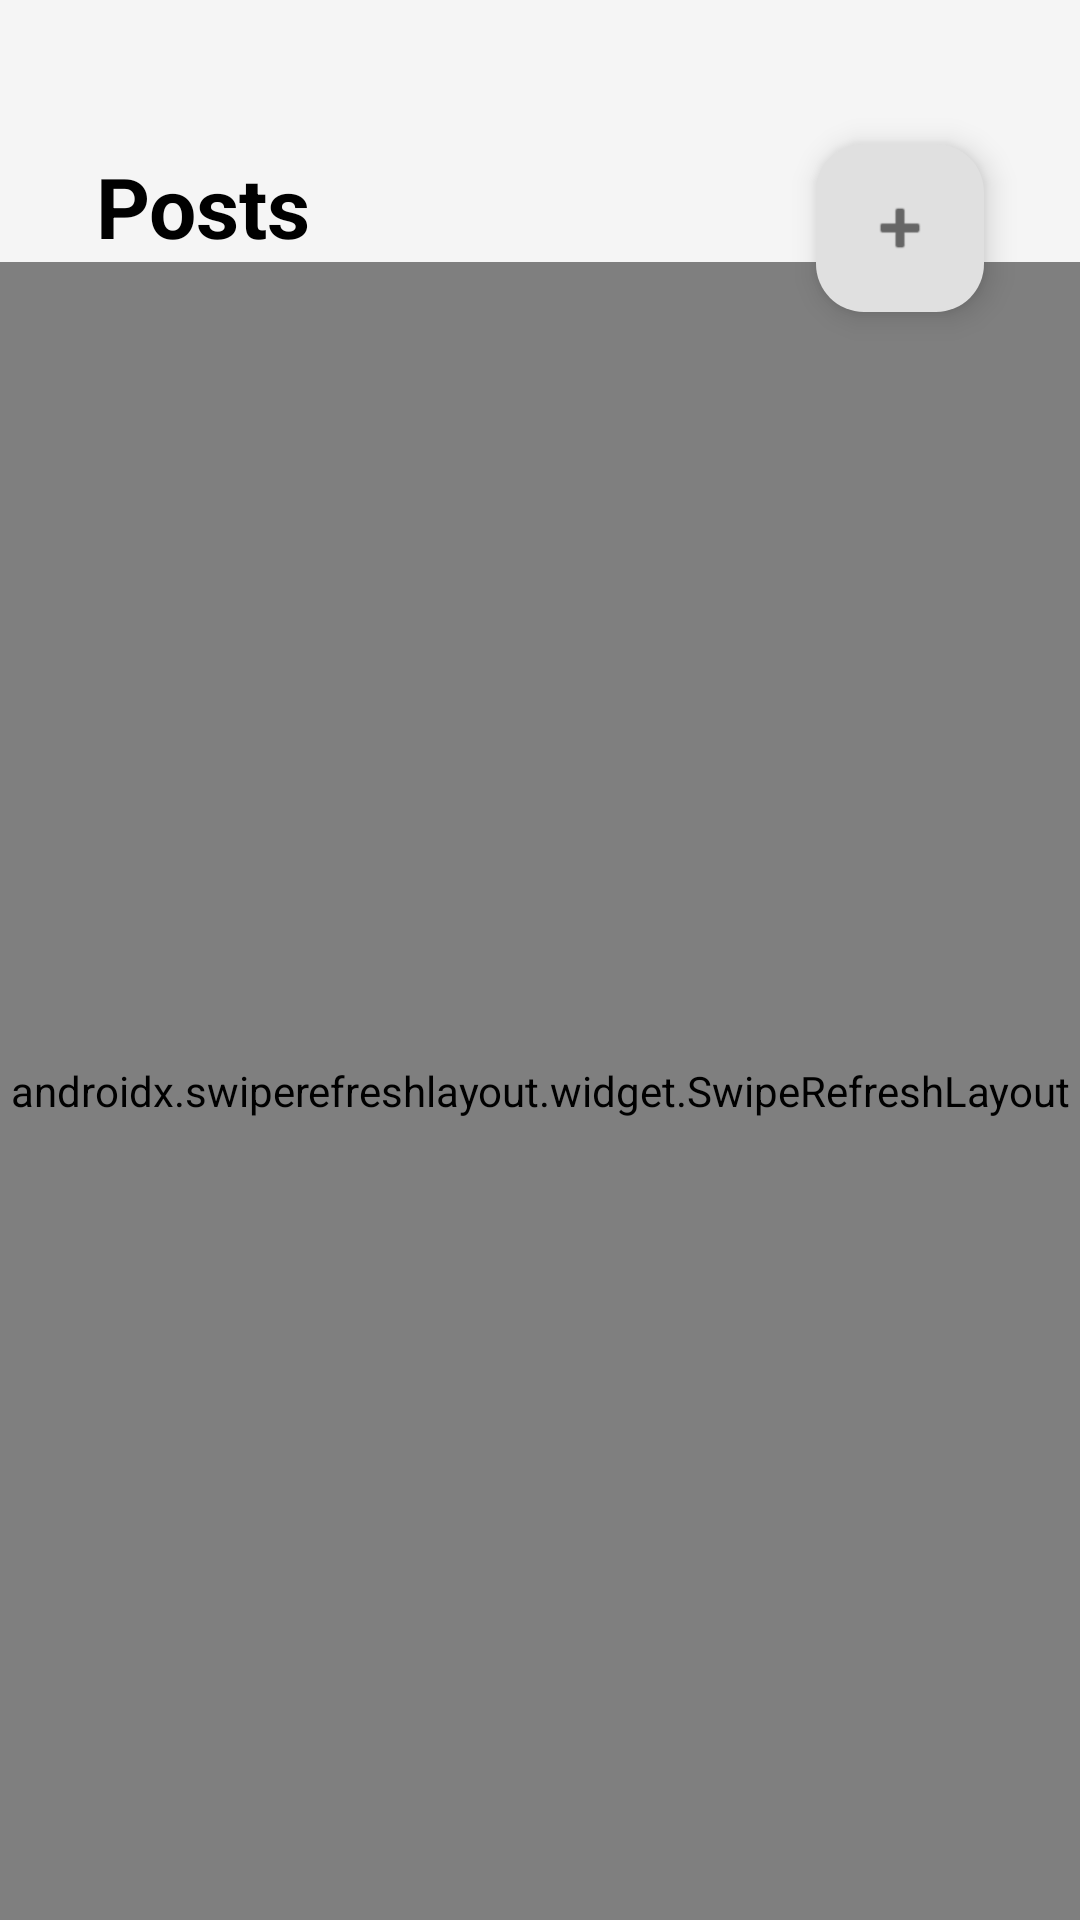

Named icons in this screenshot (1080w x 1920h) and their centers, point (x, y):
add: point (900, 228)
